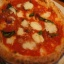basil: (36, 13, 55, 24), (1, 30, 16, 38)
pizza: (2, 2, 63, 61)
